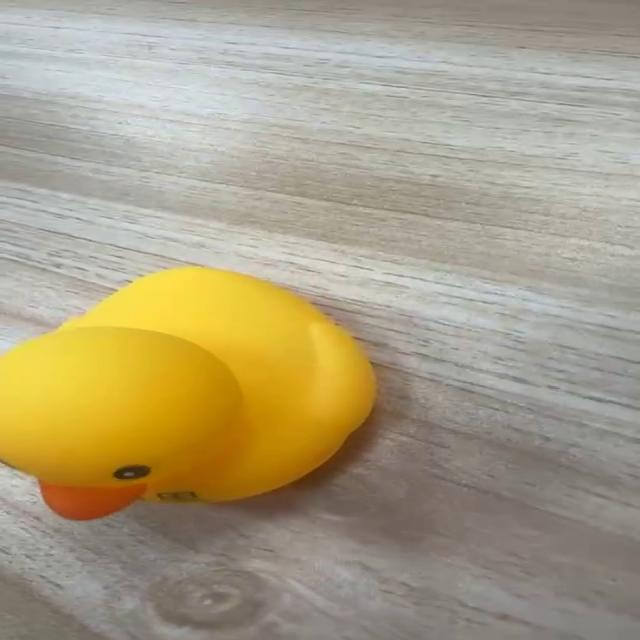yellow_duck: (1, 264, 378, 520)
